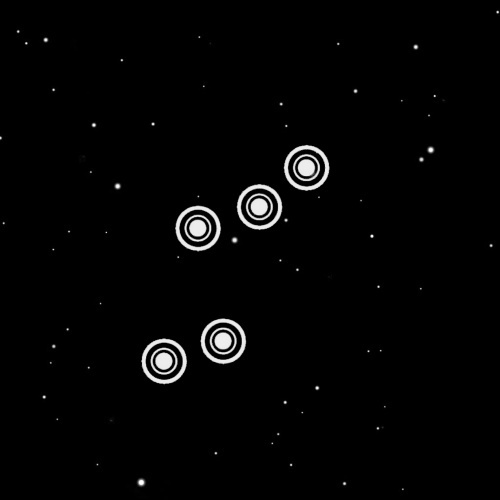lyra: (135, 130, 343, 394)
